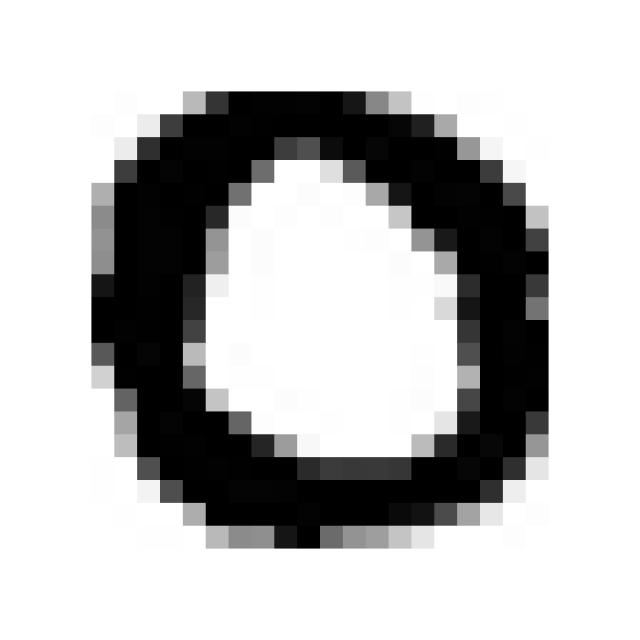5 -five-: (64, 62, 577, 562)
